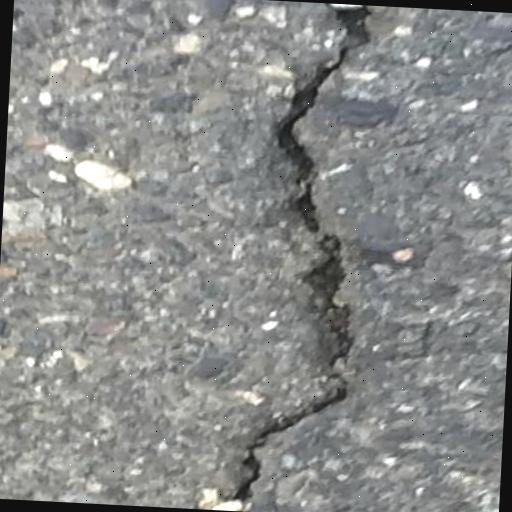spalling: (217, 4, 385, 509)
